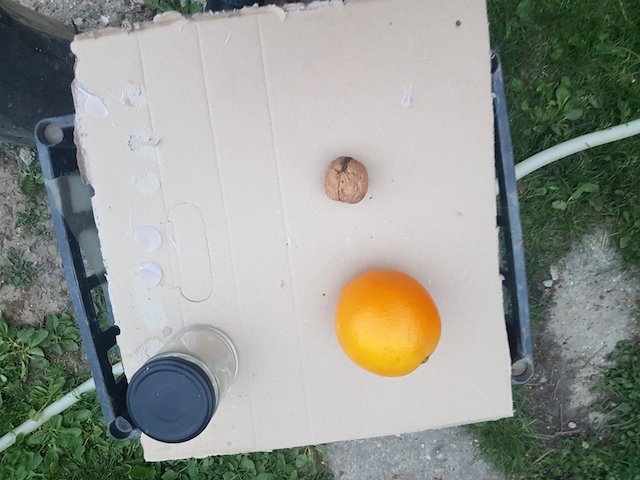nut: (324, 156, 369, 204)
orange: (335, 270, 443, 376)
recipient: (123, 361, 217, 444)
